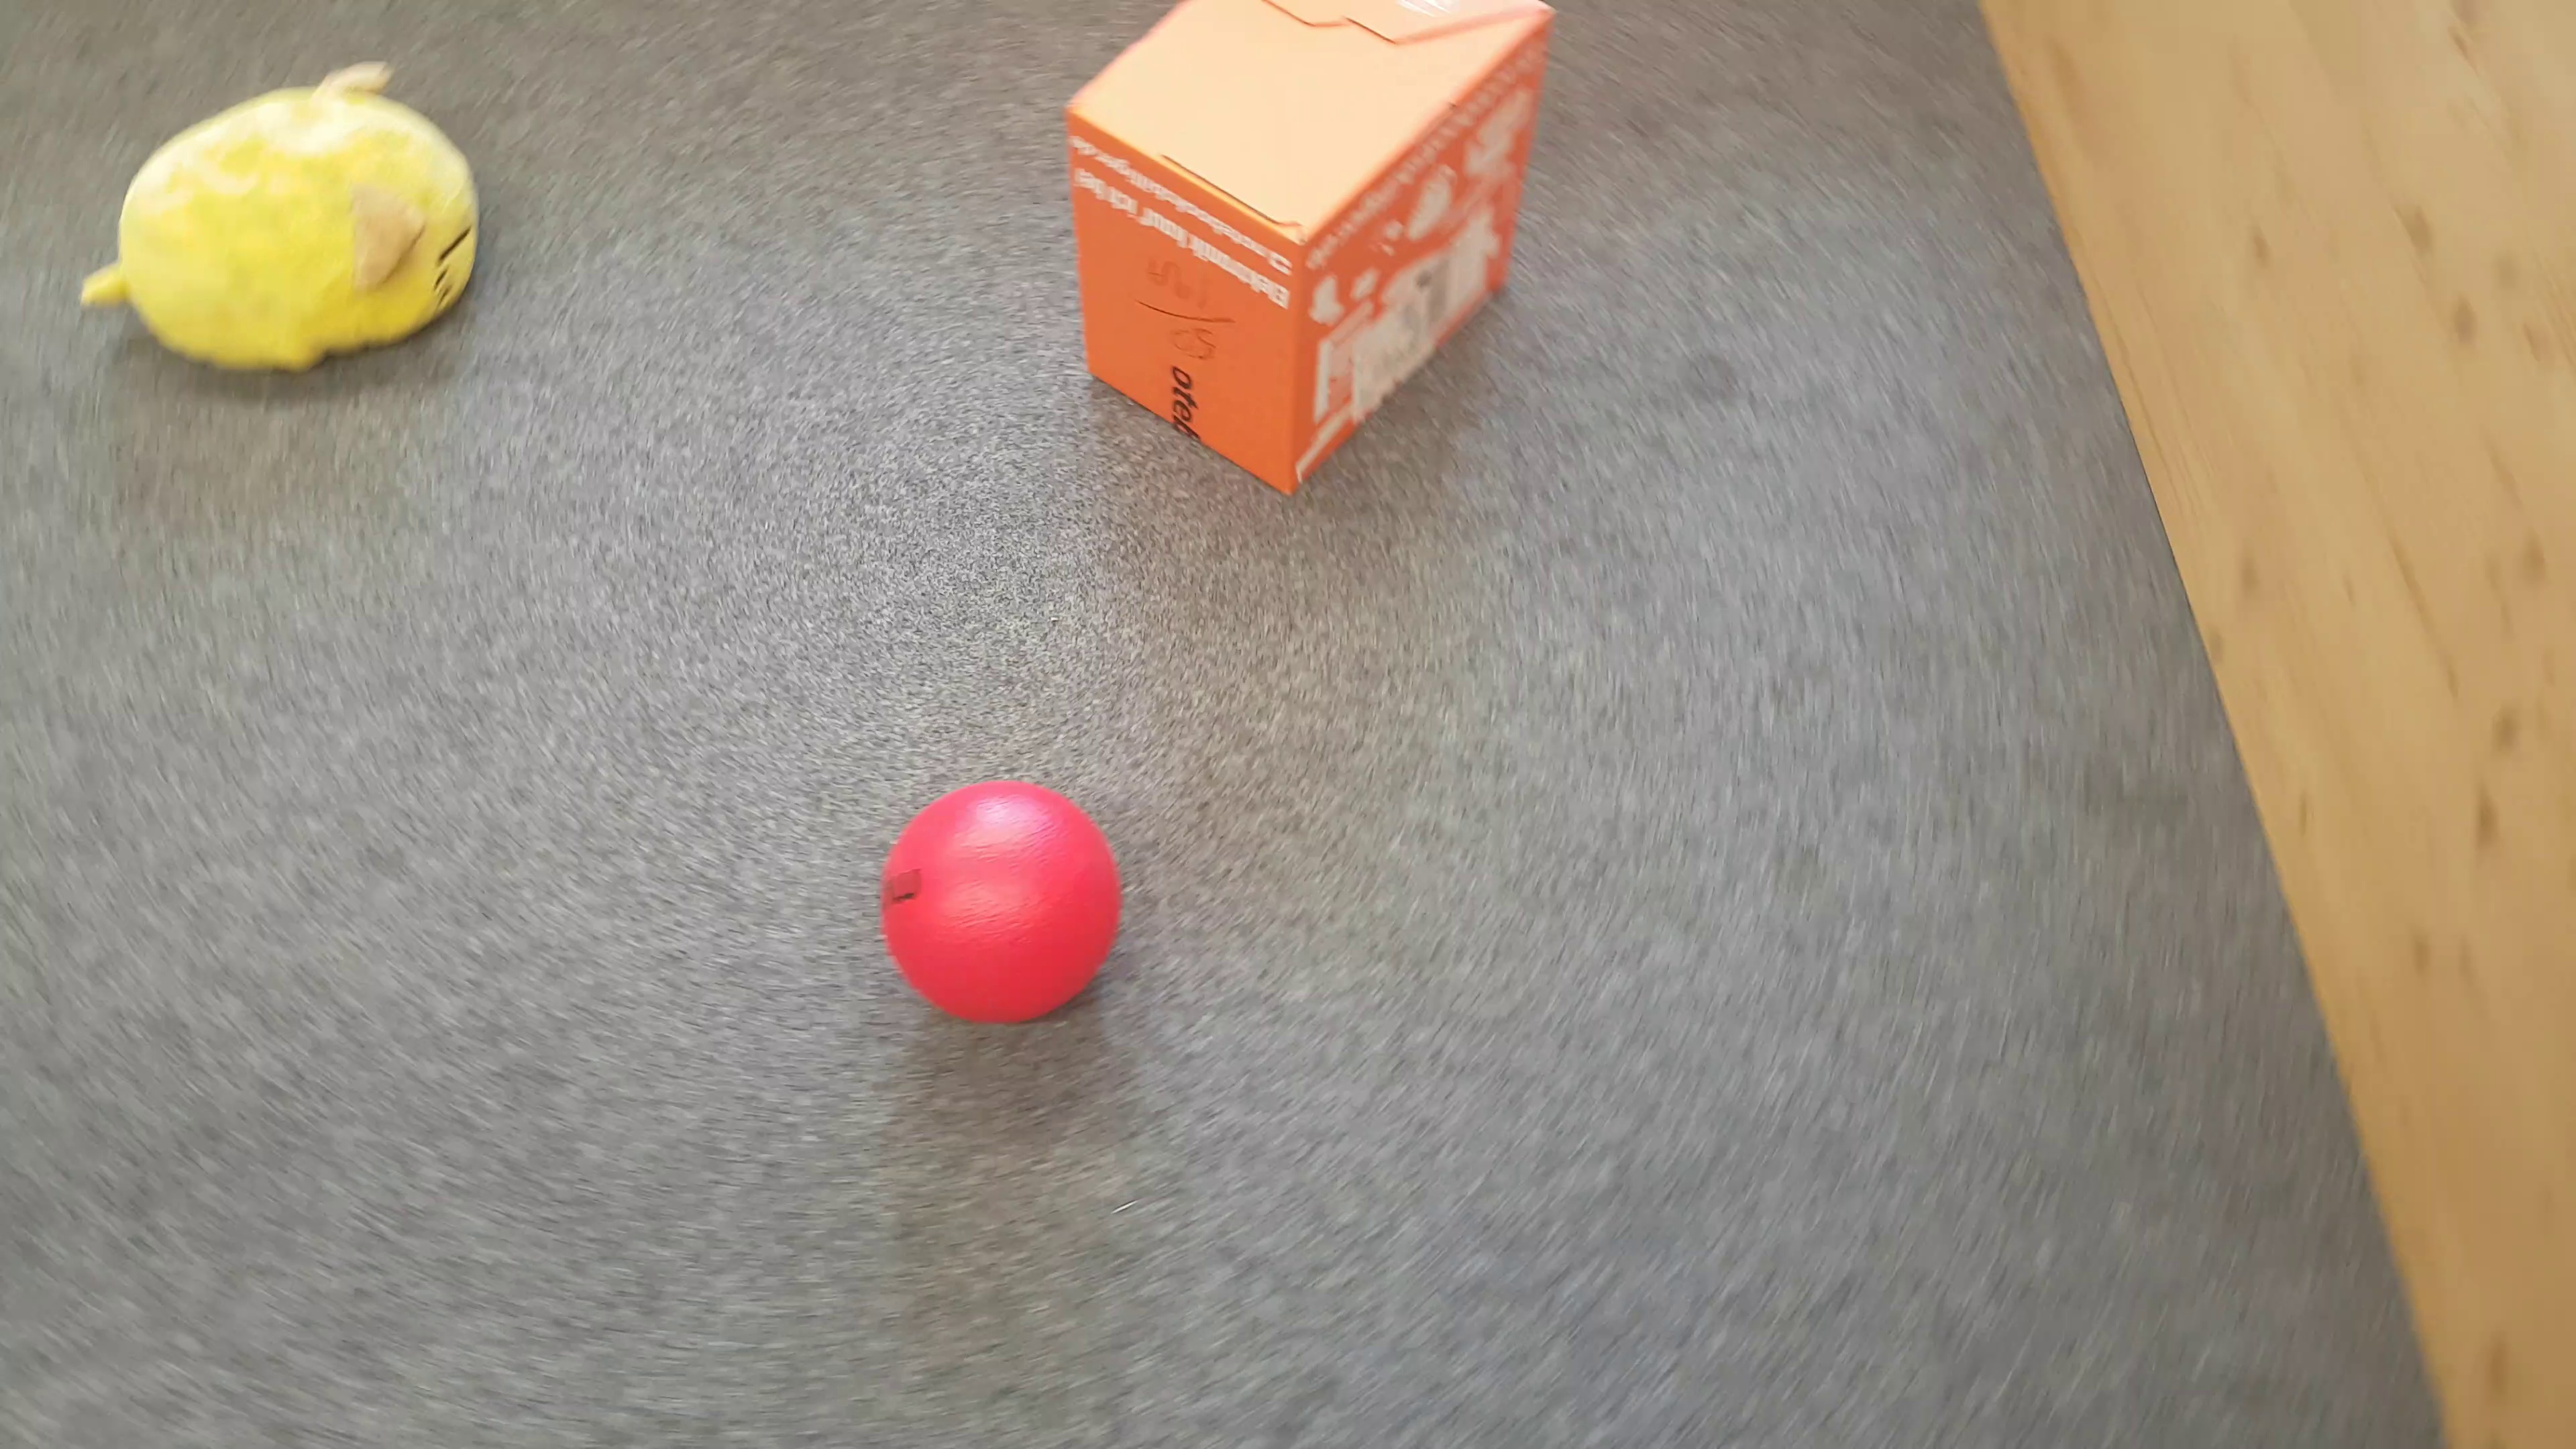grasp: (78, 65, 478, 373)
kick: (881, 780, 1127, 1028)
push: (1070, 4, 1557, 502)
